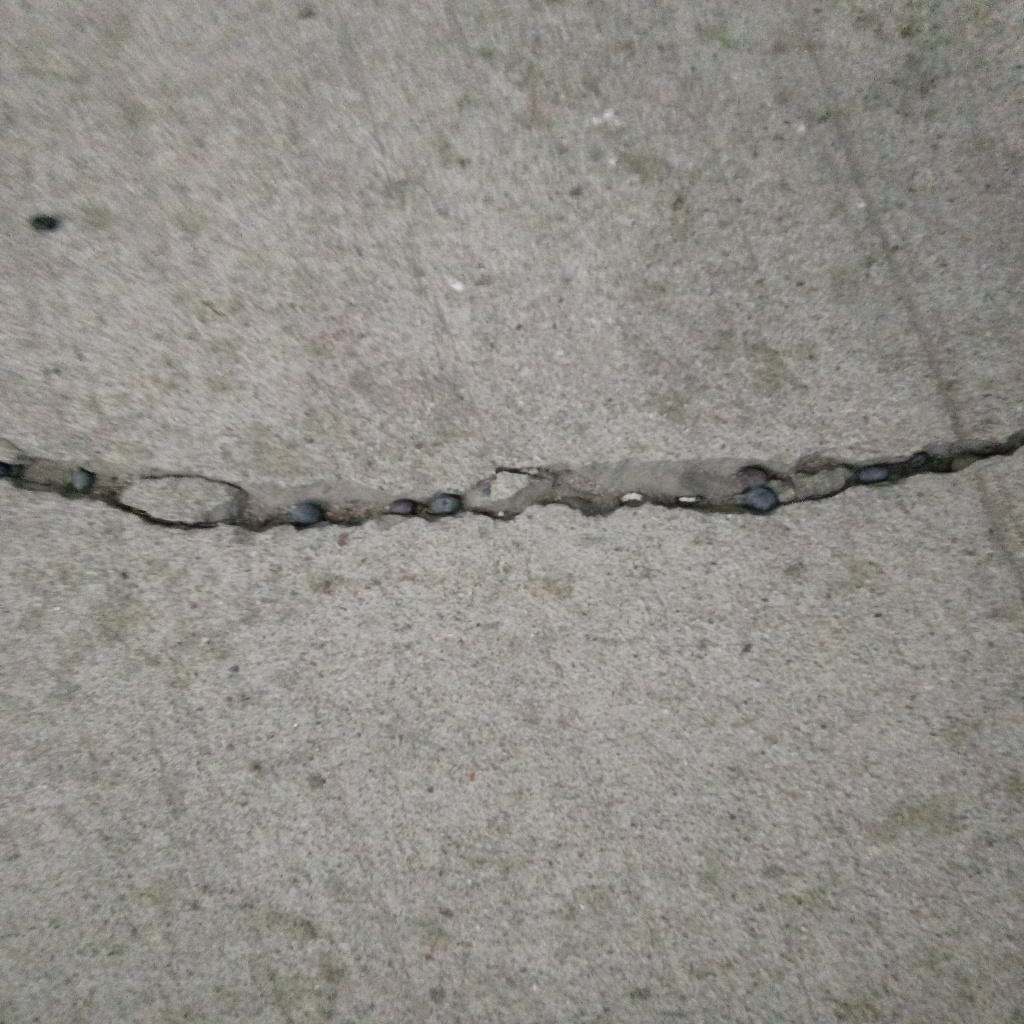Crack: (1, 424, 1024, 533)
